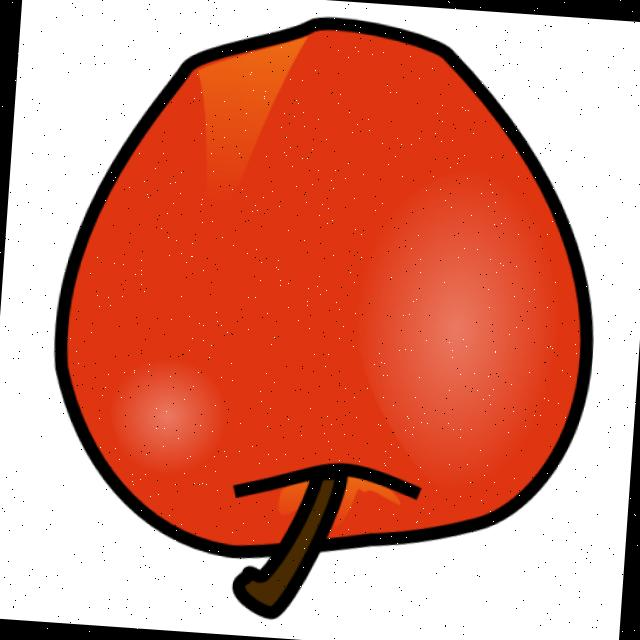Apel: (36, 1, 616, 640)
